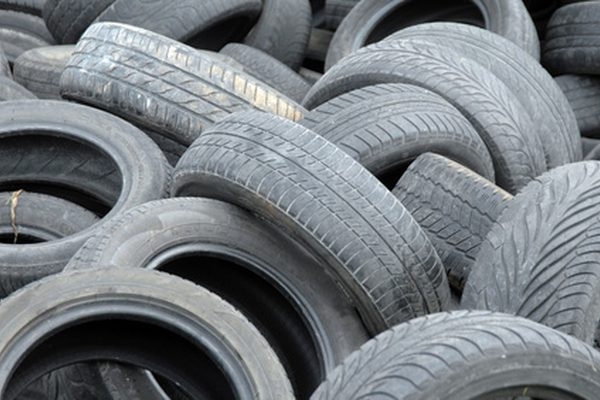tire: (44, 192, 380, 400), (164, 115, 461, 333), (290, 86, 497, 312), (53, 26, 328, 184), (4, 266, 301, 400), (303, 49, 551, 189), (1, 102, 174, 287), (292, 306, 600, 398), (328, 1, 543, 98)
